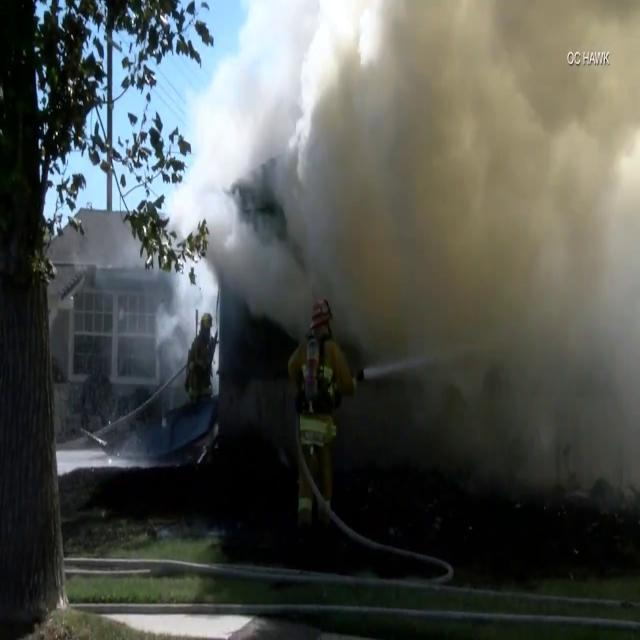Smoke: (162, 0, 640, 422)
